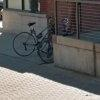Bicycle: (4, 14, 53, 67)
